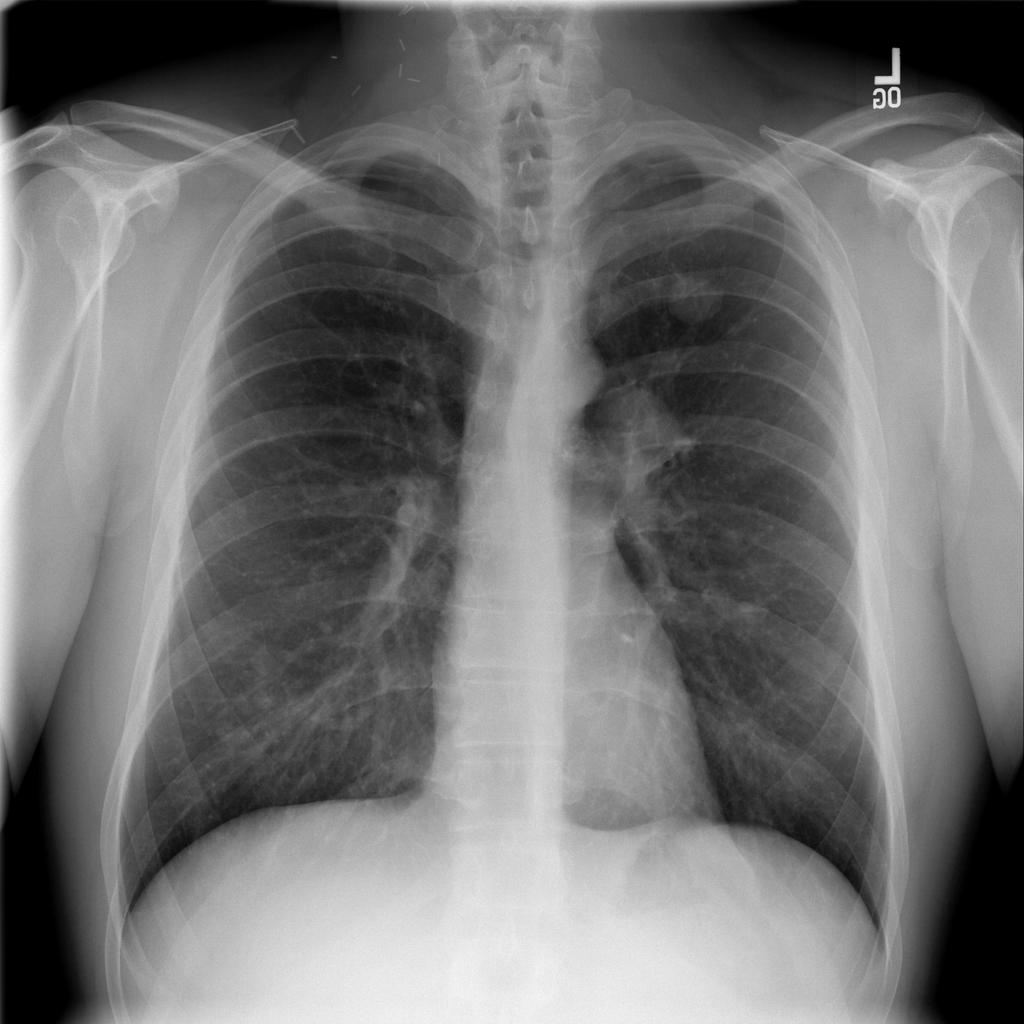nodule: (651, 259, 735, 333), (714, 576, 787, 644)
